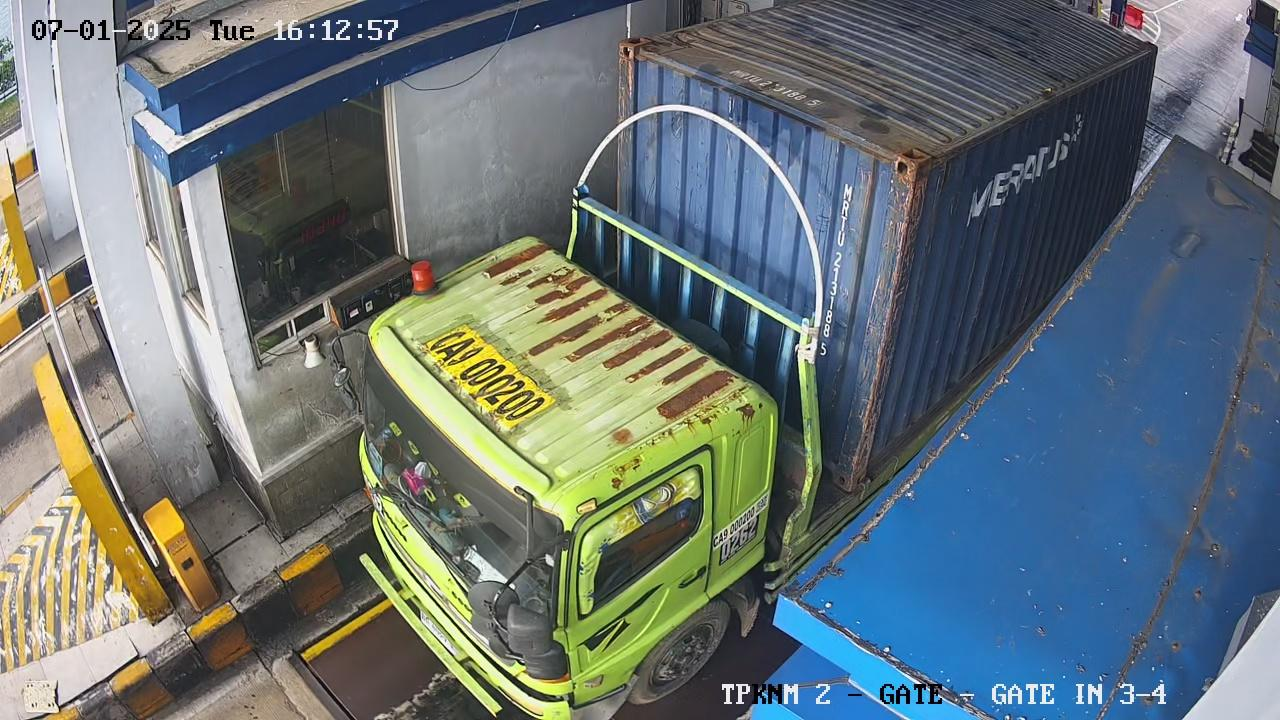Container_ID_Vertikal: (817, 183, 854, 355)
truck_id: (423, 325, 555, 433), (712, 501, 760, 563)
